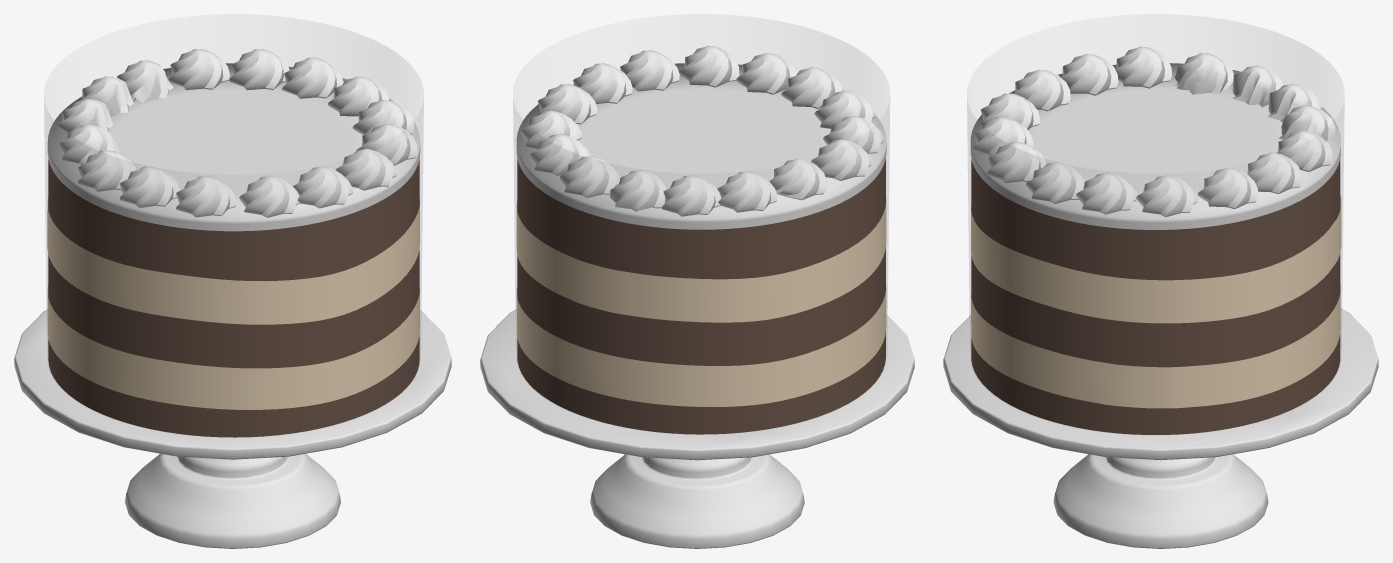
The model's file is boloacetato.glb.
The picture shows the model from 3 angles, left to right: view 1: azimuth 30°, elevation 25°; view 2: azimuth 150°, elevation 25°; view 3: azimuth 270°, elevation 25°; orthographic projection.
Visible parts, largest first — view 1: plastico, Base Cake, Chantili, chantili, bolo1.002, bolo1.003, recheio.001, recheio, bolo1; view 2: plastico, Base Cake, chantili, Chantili, bolo1.002, recheio.001, bolo1.003, recheio, bolo1; view 3: plastico, Base Cake, Chantili, chantili, bolo1.002, bolo1.003, recheio.001, recheio, bolo1.
Part boxes in pixels (x1,y1,x2,y2): plastico: [44, 14, 423, 437]; Base Cake: [14, 309, 451, 548]; Chantili: [47, 63, 420, 231]; chantili: [57, 49, 417, 217]; bolo1.002: [48, 160, 419, 281]; bolo1.003: [48, 250, 419, 368]; recheio.001: [47, 197, 419, 324]; recheio: [47, 285, 419, 409]; bolo1: [48, 335, 419, 437]; plastico: [513, 14, 889, 434]; Base Cake: [480, 309, 914, 548]; chantili: [520, 45, 883, 216]; Chantili: [516, 63, 886, 229]; bolo1.002: [517, 158, 885, 279]; recheio.001: [516, 197, 886, 322]; bolo1.003: [517, 247, 885, 365]; recheio: [516, 286, 886, 406]; bolo1: [517, 332, 885, 434]; plastico: [967, 14, 1344, 434]; Base Cake: [943, 308, 1378, 548]; Chantili: [970, 63, 1340, 229]; chantili: [973, 46, 1335, 217]; bolo1.002: [971, 159, 1340, 280]; bolo1.003: [971, 254, 1340, 367]; recheio.001: [971, 196, 1341, 323]; recheio: [971, 284, 1340, 408]; bolo1: [971, 334, 1340, 434].
Size of the model in its own units: 0.7704 by 0.8004 by 0.7704.
